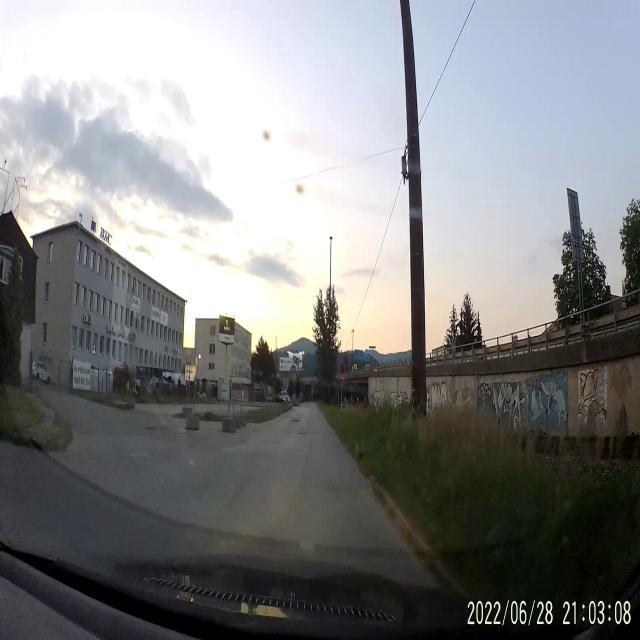Pothole: (291, 417, 300, 425), (298, 430, 306, 438)
